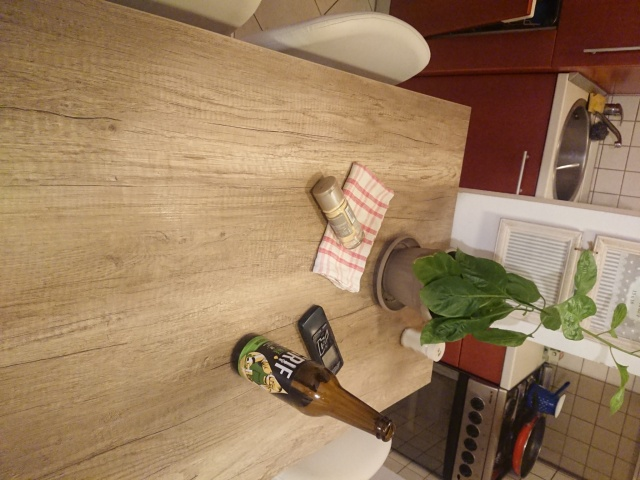Kotanyi Garlic Granules 70g: (309, 174, 367, 251)
